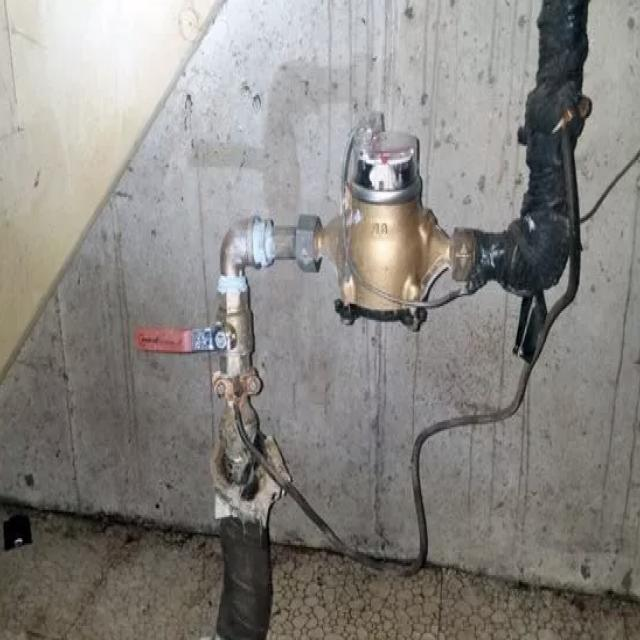Lever Handle Valve Threaded: (134, 276, 254, 379)
